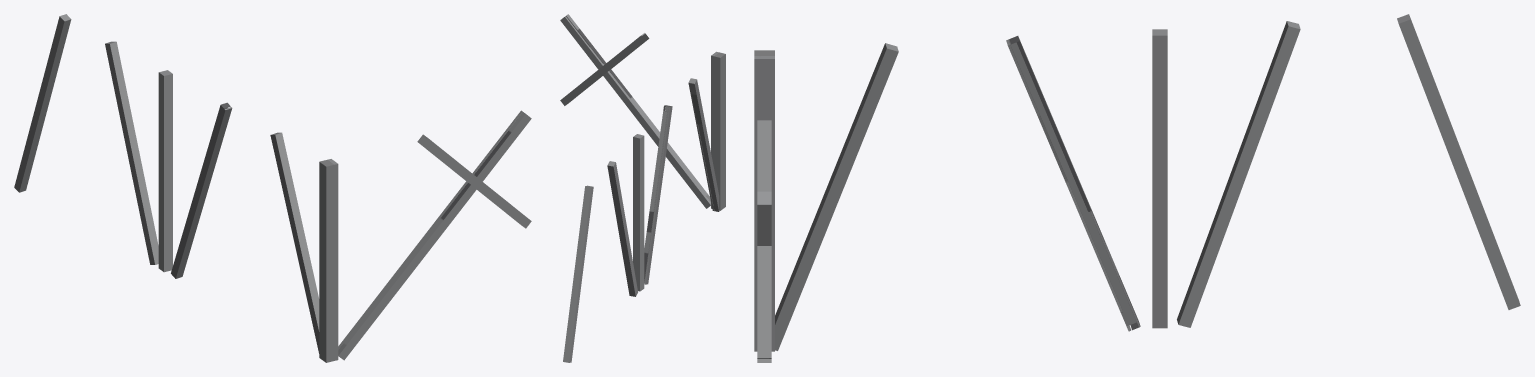
The picture shows the model from 3 angles, left to right: view 1: azimuth 30°, elevation 25°; view 2: azimuth 150°, elevation 25°; view 3: azimuth 270°, elevation 25°; orthographic projection. The views are drawn at different scales.
Size of the model in its own units: 1.4 by 1.03 by 2.37.
